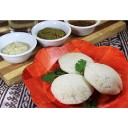idly: (50, 73, 94, 103), (85, 62, 121, 94), (58, 50, 94, 75)
